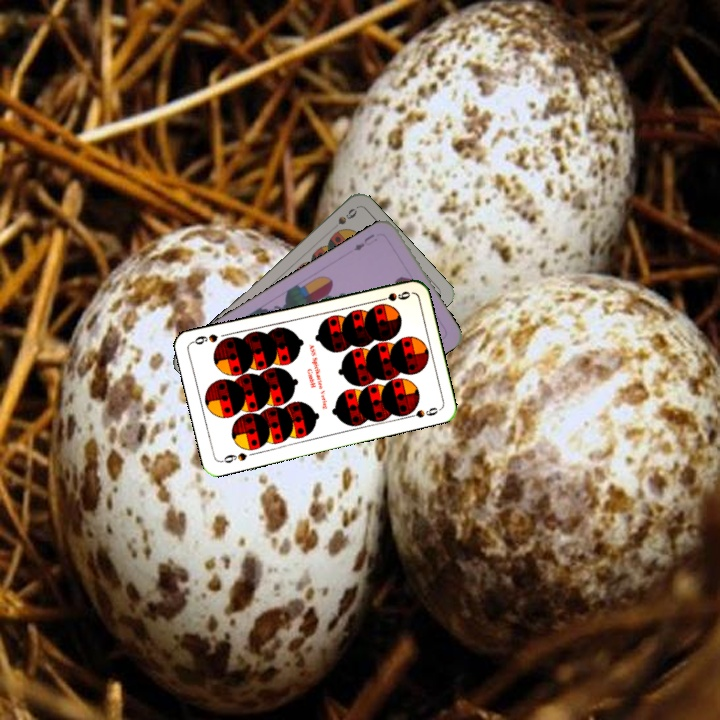EU: (346, 229, 380, 255)
S9: (325, 204, 359, 235), (372, 287, 413, 304), (217, 448, 249, 466)
